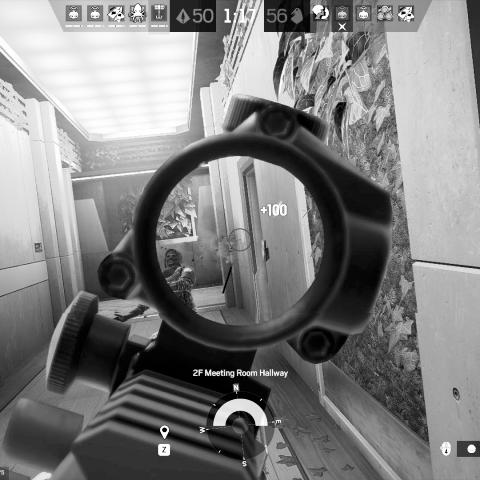Character: (112, 248, 198, 321)
Head: (164, 248, 183, 267)
